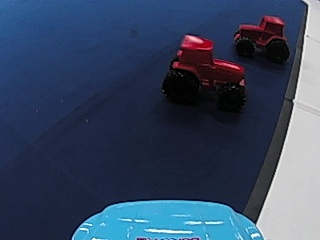tractor: (161, 30, 250, 112), (233, 12, 291, 62)
